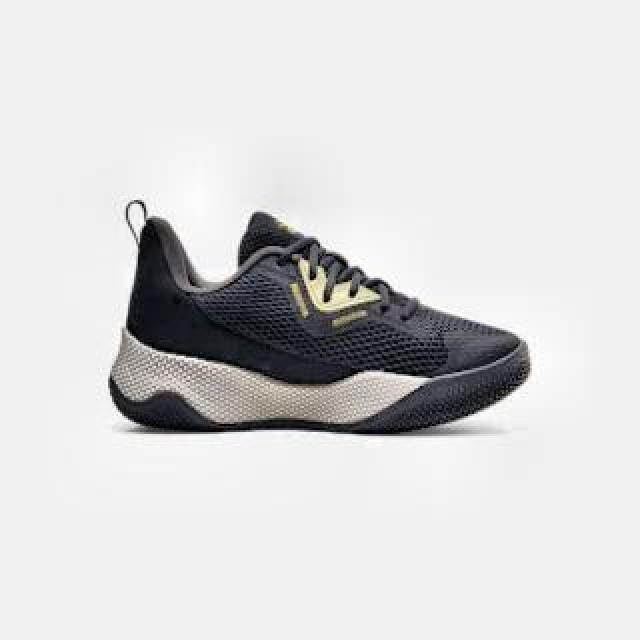shoe: (107, 210, 531, 432)
